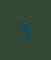nine: (19, 19, 29, 40)
